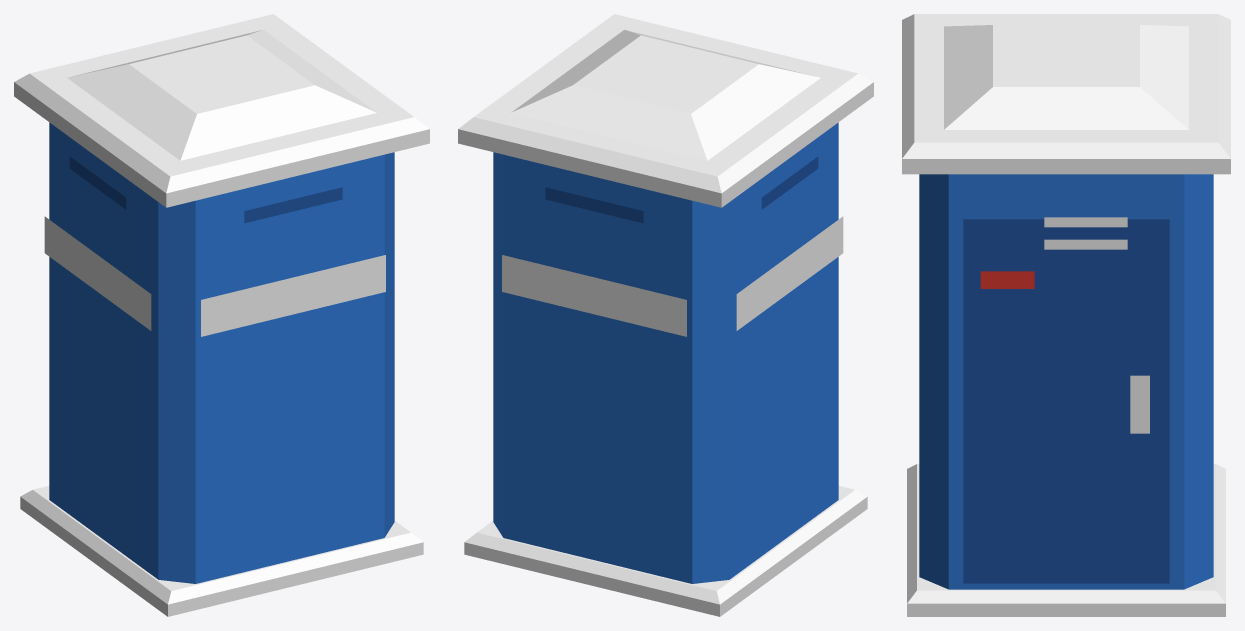
The model's file is portable_toilet.glb.
3 views of the same model, side by side, from view 1: azimuth 30°, elevation 25°; view 2: azimuth 150°, elevation 25°; view 3: azimuth 270°, elevation 25° (orthographic). The views are drawn at different scales.
Parts seen in each view (by area): view 1: portable_toilet; view 2: portable_toilet; view 3: portable_toilet.
Part boxes in pixels (box(x1,y1,x2,y2)): portable_toilet: box(14, 14, 429, 616); portable_toilet: box(458, 14, 873, 616); portable_toilet: box(902, 14, 1230, 616).
Bounding box in the file's own units: 0.134 × 0.222 × 0.134.
